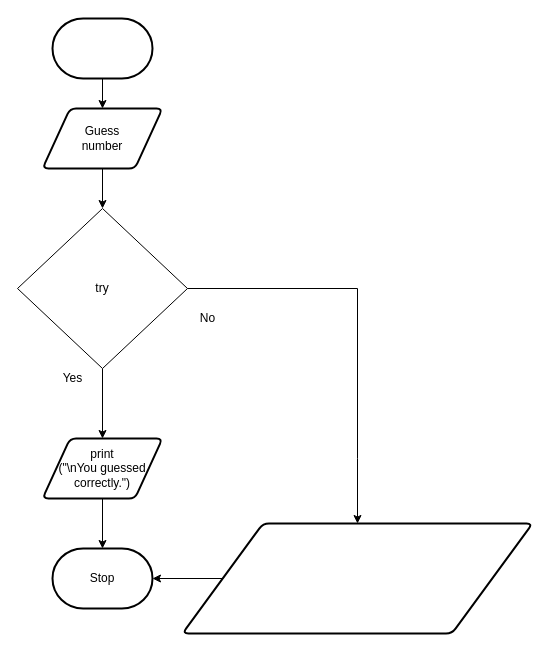
Image size: 551x651. Some labels were removed from this diagram. The shapes that lost their labels are listed below. From the top down, each one's box as (x1, y1, x2, y2) in pixels, then its label:
(51, 17, 153, 79): Start
(181, 522, 533, 634): print("\nNot good, {} is not an integer.".format(guessed_number_as_string))
